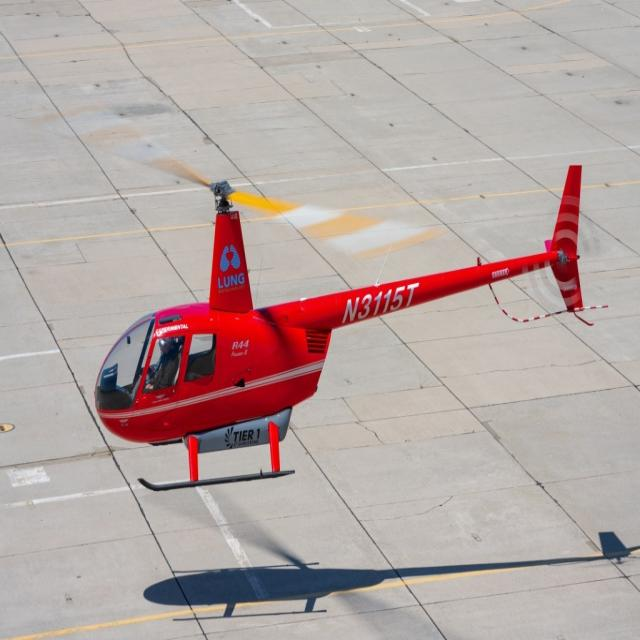CIV_HELO: (91, 160, 589, 496)
